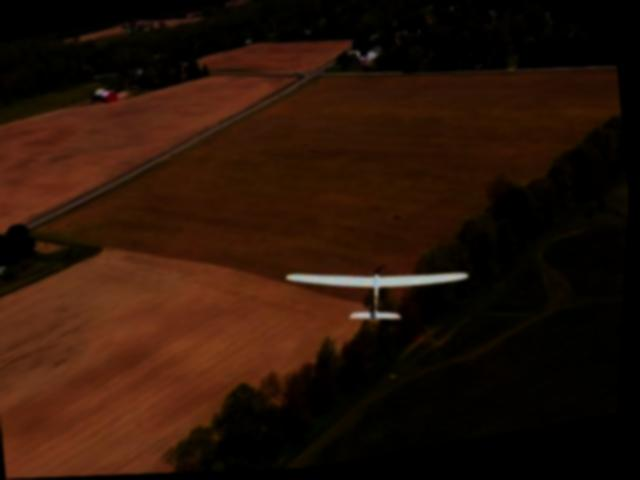uav: (275, 231, 486, 358)
